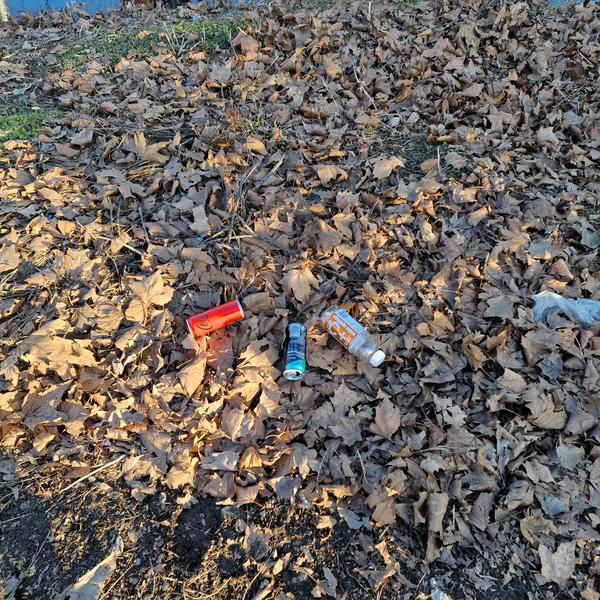can: (183, 297, 247, 340), (281, 321, 309, 381)
plastic_bottle: (314, 298, 394, 376)
